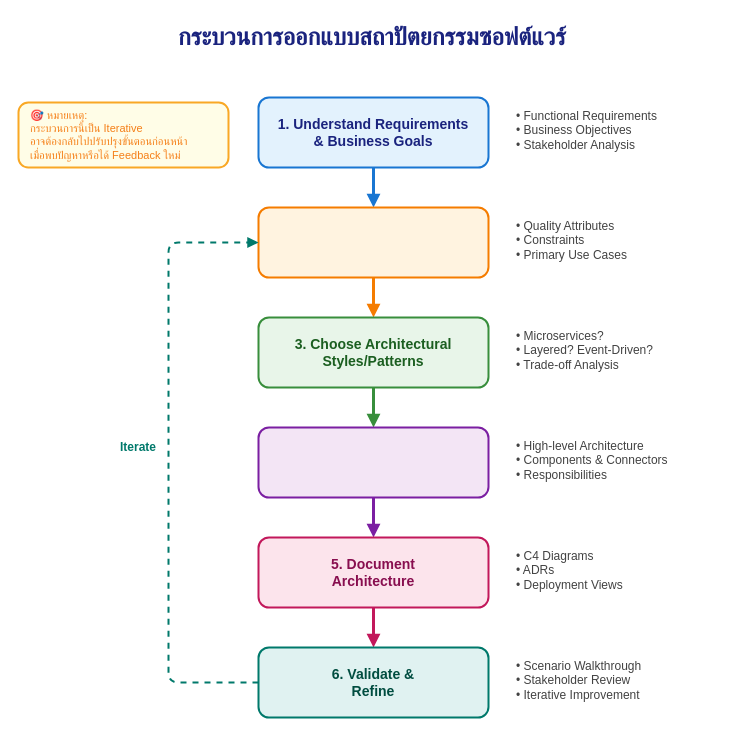
Some shapes in this 731 by 735 pixel diagram are drawn without their labels. The centre of each missing label's shape, as x and y in pixels:
"2. Identify Architectural Drivers" belongs at (x=373, y=242).
"4. Design Architecture Solution" belongs at (x=373, y=462).
